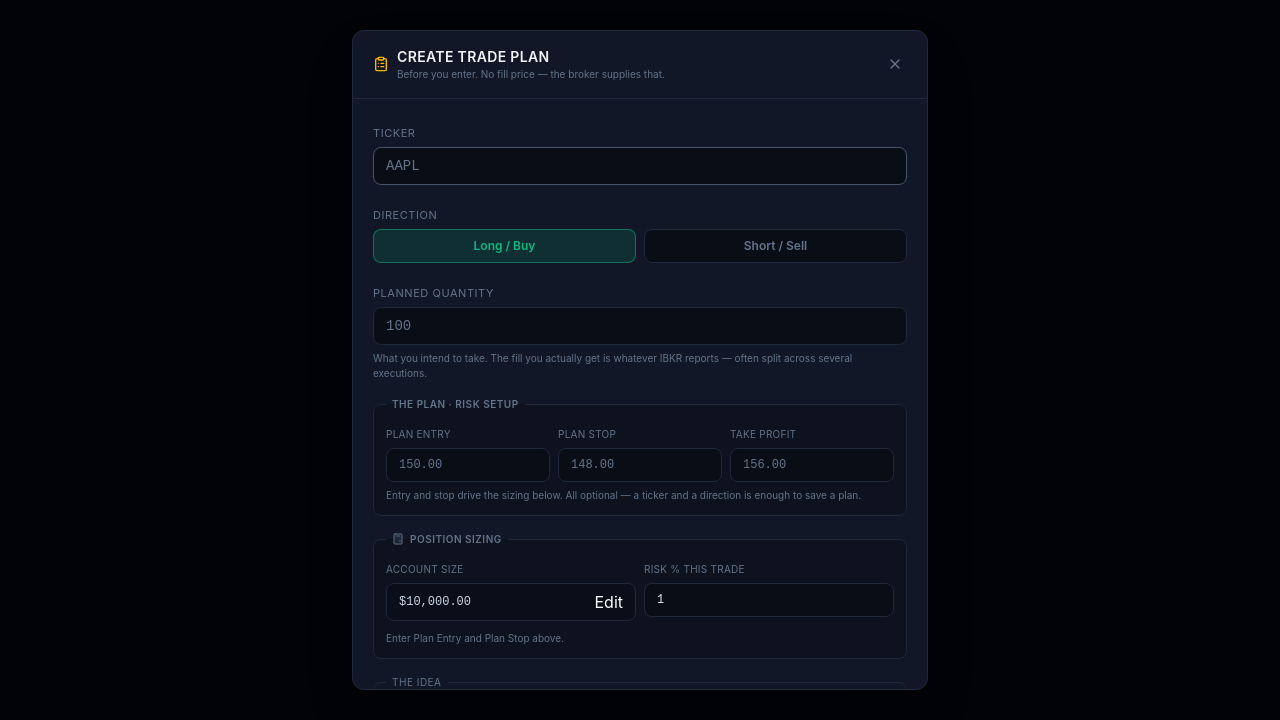
Test: validation › rejects an empty ticker ()
Expected: the text "Ticker" is shown, [373,126,416,140]
Clear the field with placeholder "AAPL" at (640, 166), box [373,147,907,185]
(page scrolled)
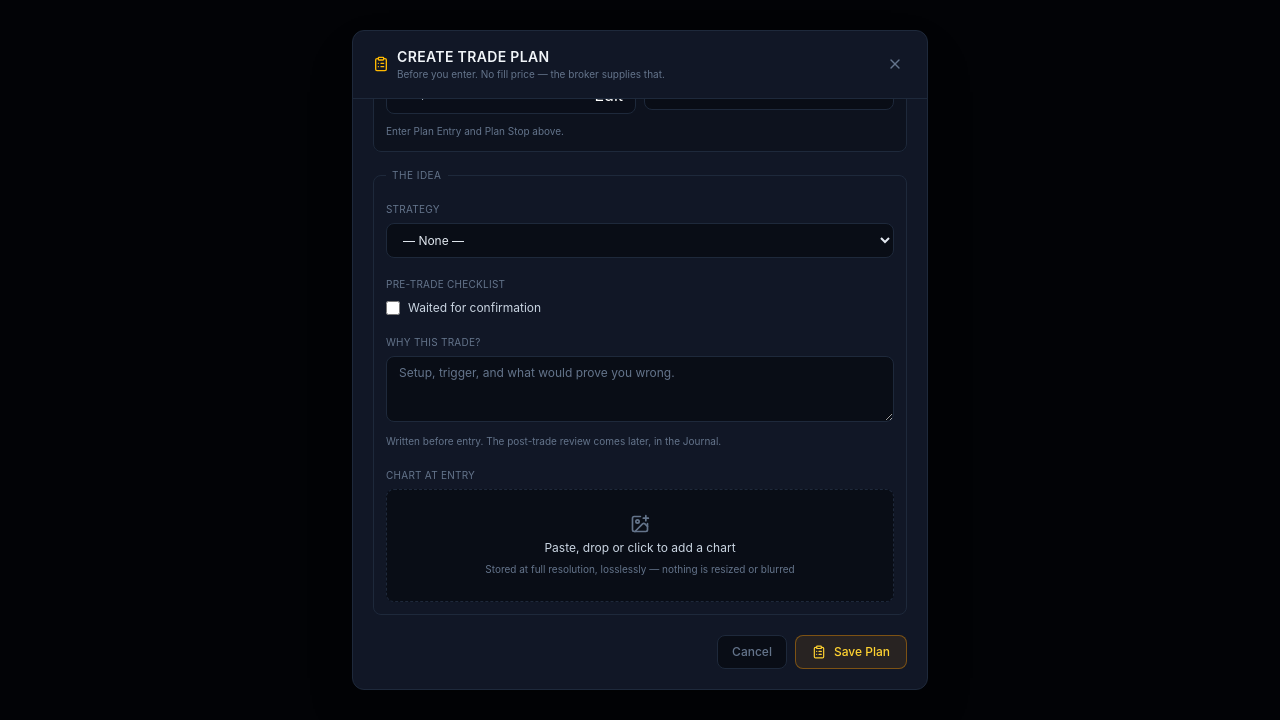
Click the button "Save Plan" at (851, 652), box [795,635,907,669]
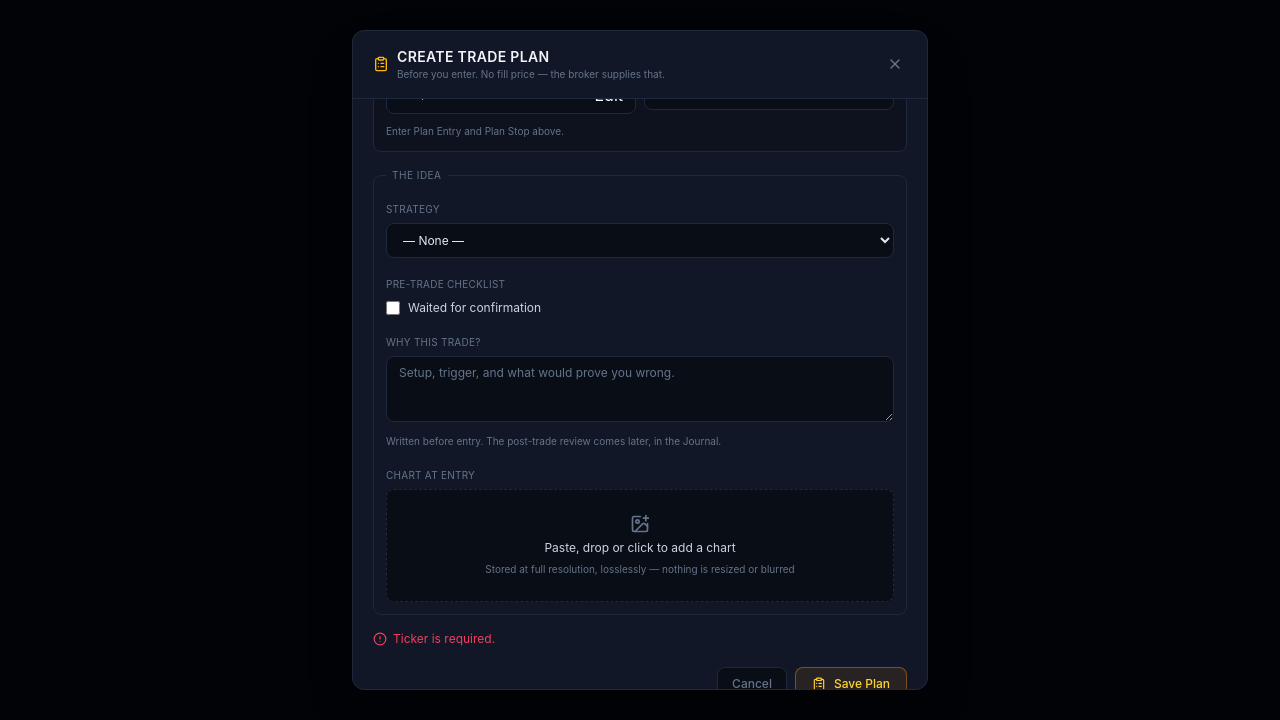
Now the text "Ticker is required." is shown, box [393,631,495,647]
